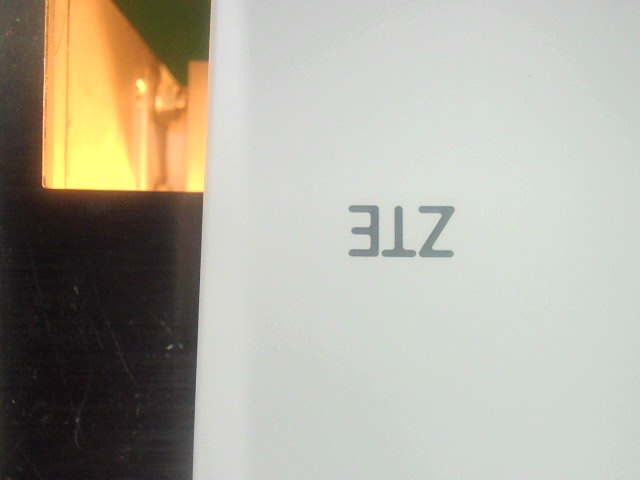AO_ZTESmall: (335, 195, 464, 267)
